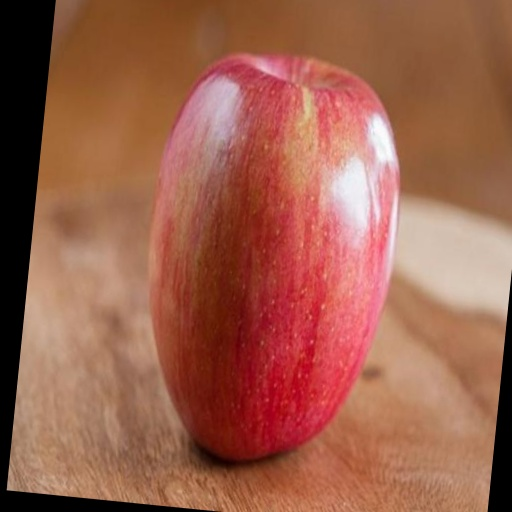fruit: (149, 55, 399, 460)
